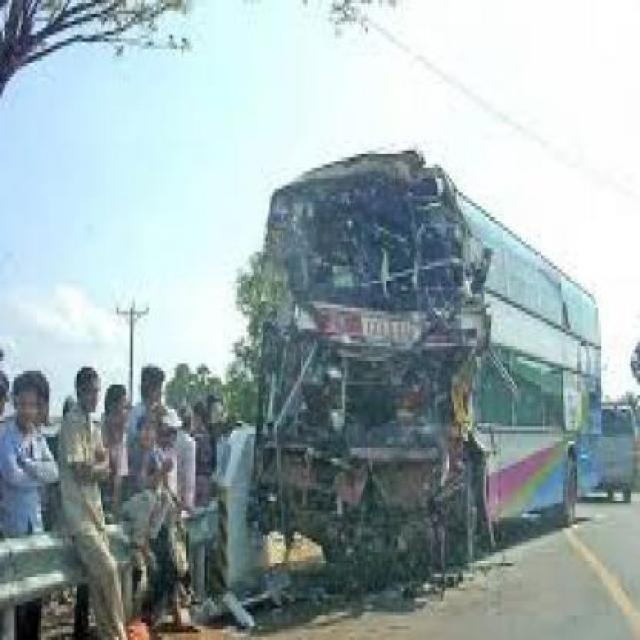accident: (231, 134, 620, 595)
